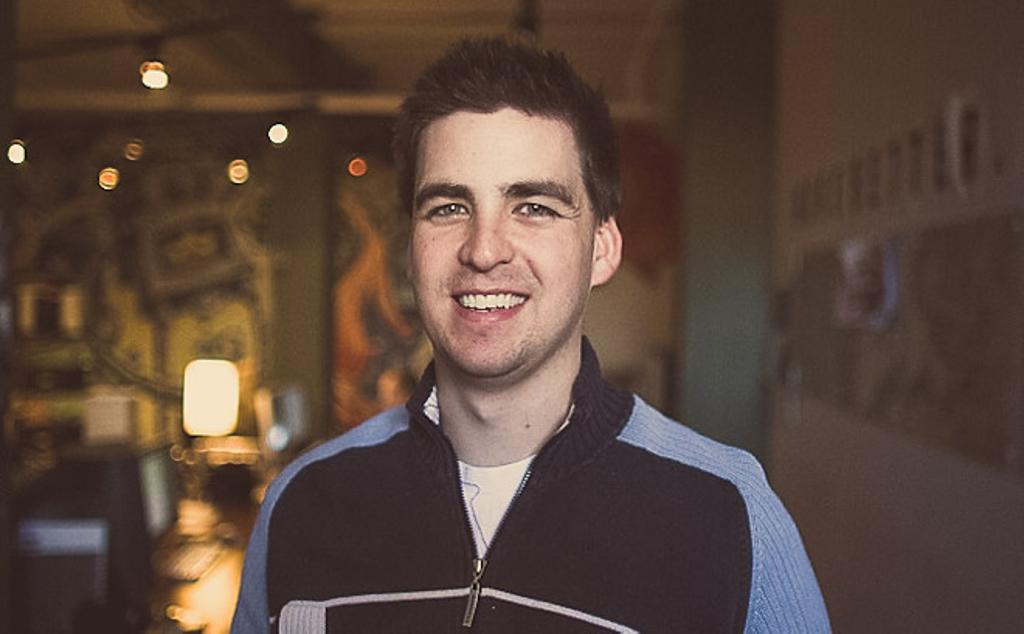face: (419, 111, 589, 377)
